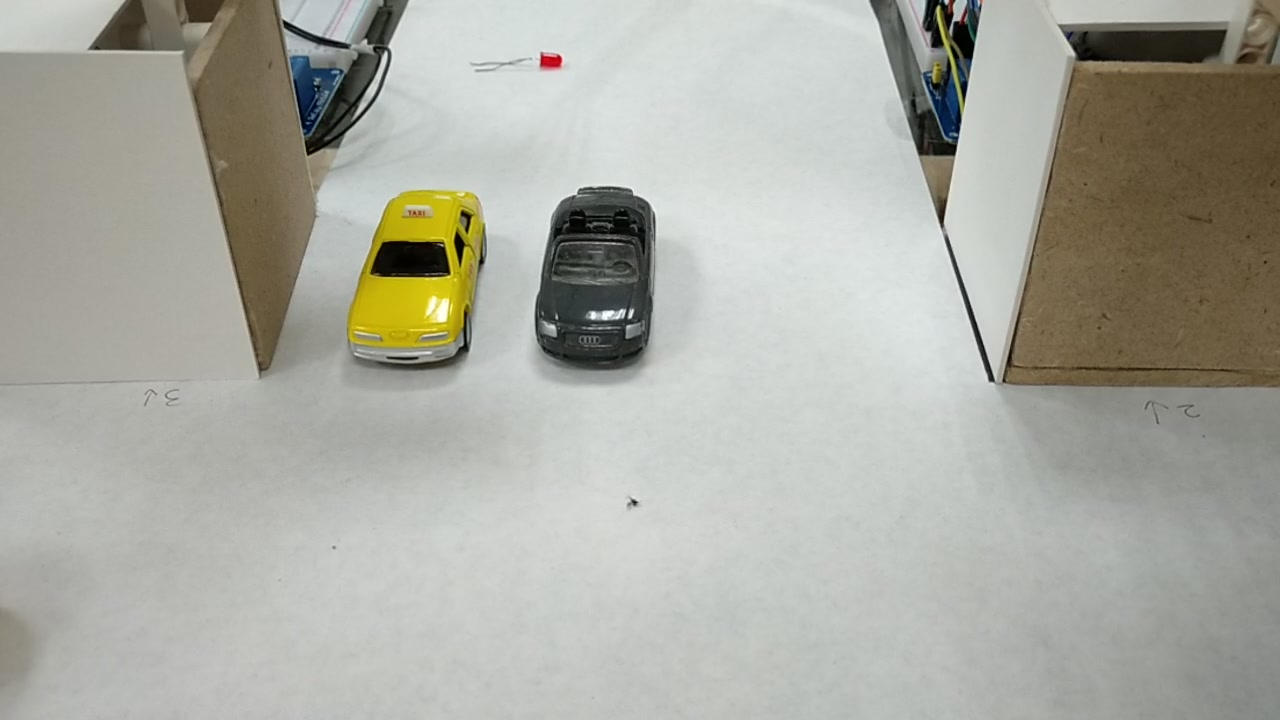car: (347, 185, 484, 363), (536, 188, 652, 364)
